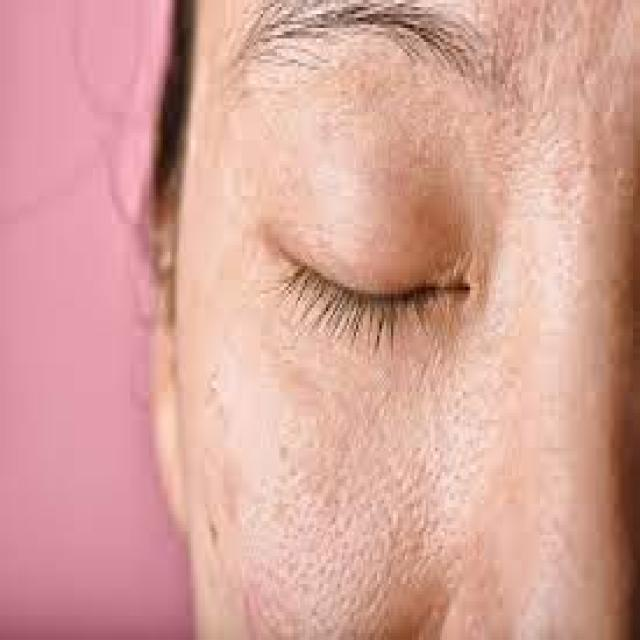dry: (249, 480, 317, 598), (354, 448, 404, 550), (411, 420, 450, 522), (328, 538, 381, 613), (516, 28, 603, 55)
